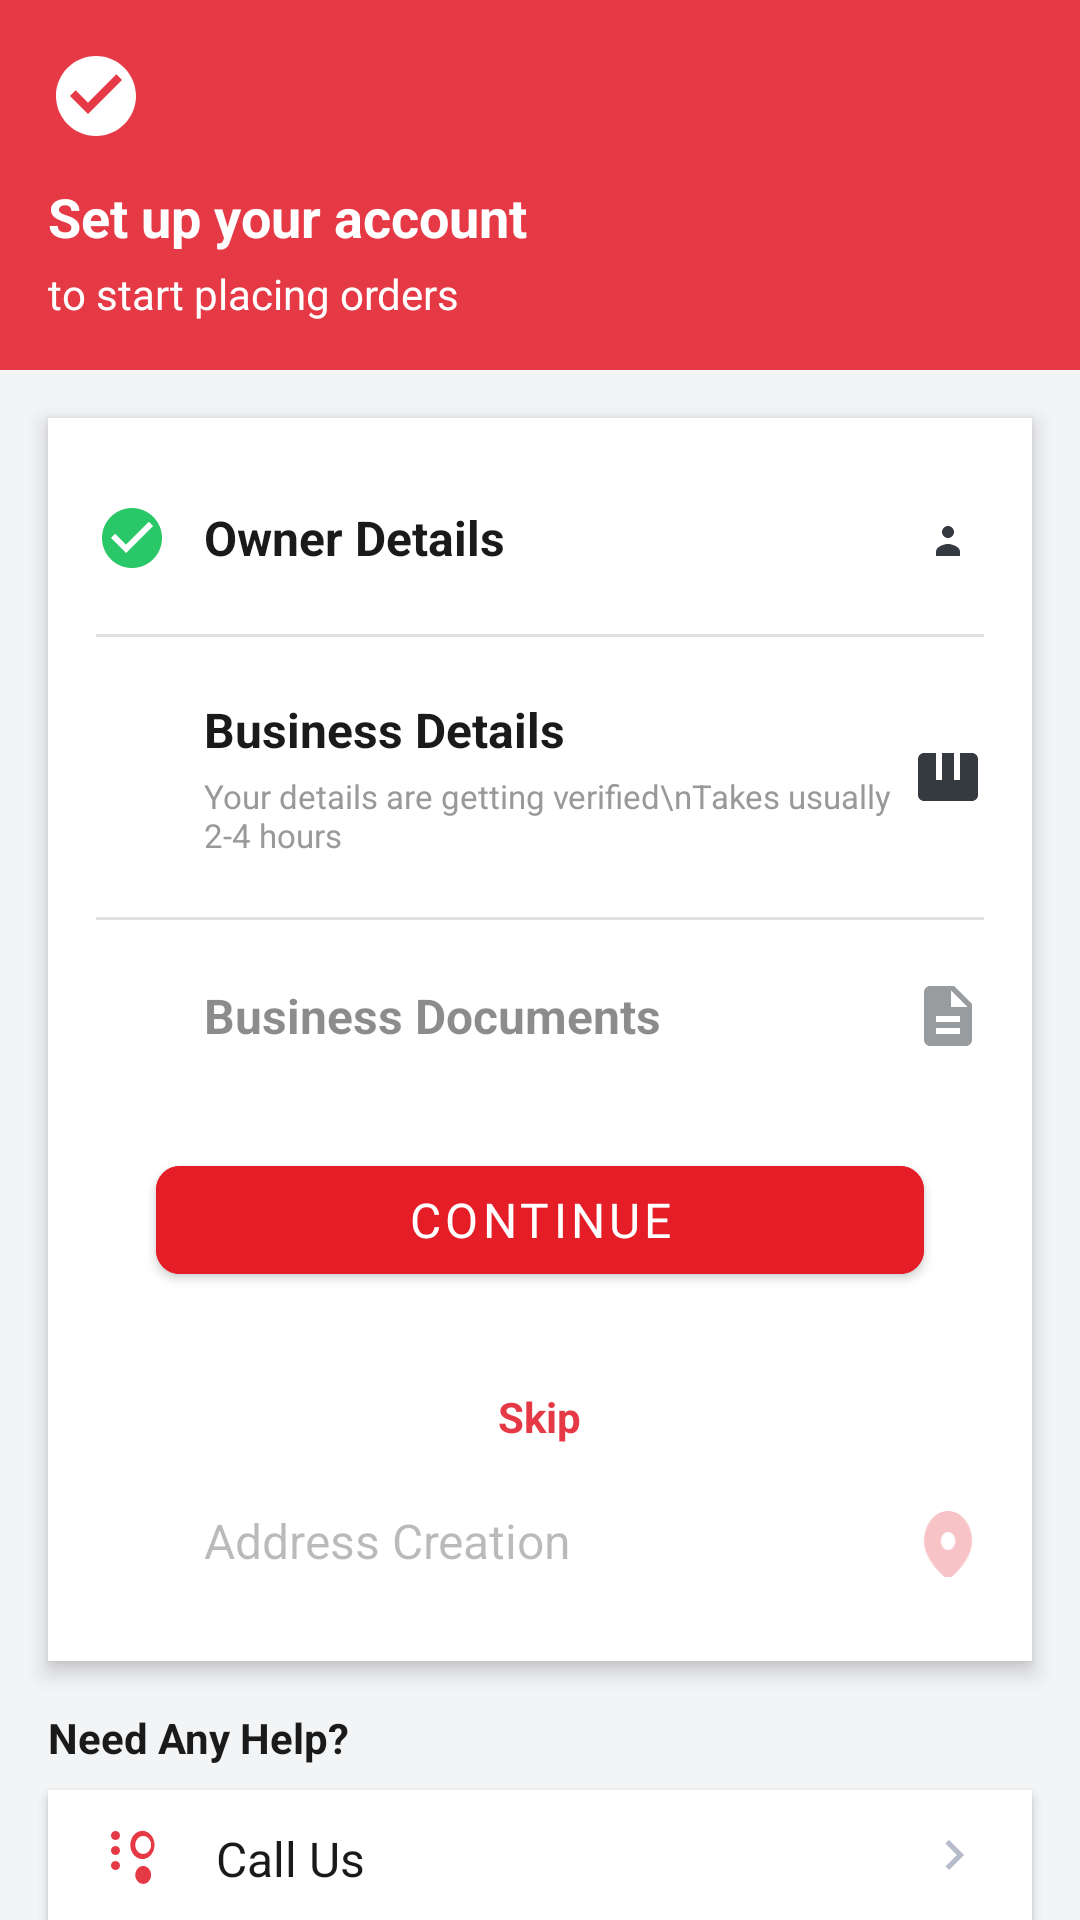

Where to tap for icons on this 1080 x 1920 app screen, as (x,y):
document: (948,1016)
Done: (132,538)
location: (948,1544)
Next: (954,1855)
person: (948,541)
